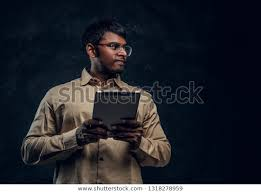Indian_Male: (82, 21, 131, 73)
